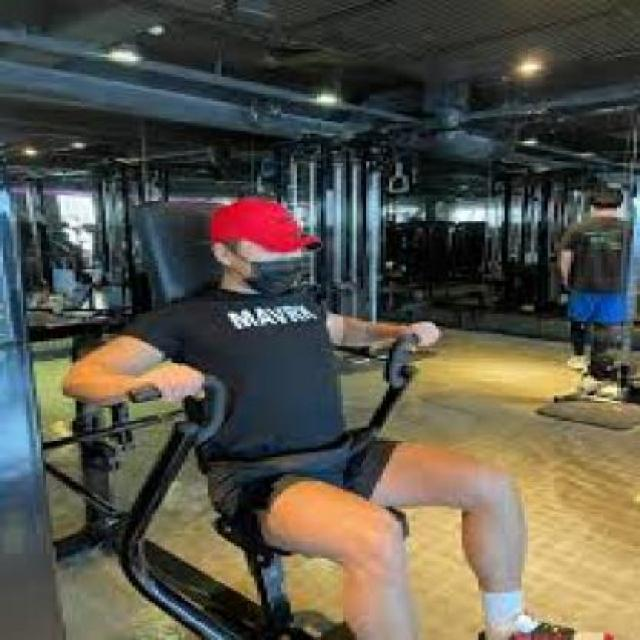Chest Press machine: (6, 163, 614, 640)
